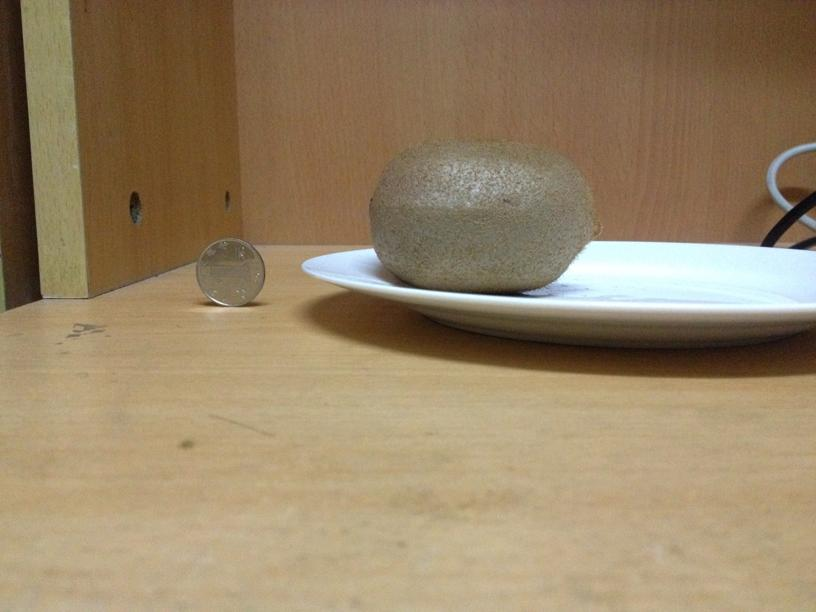coin: (193, 238, 266, 308)
qiwi: (370, 140, 598, 290)
